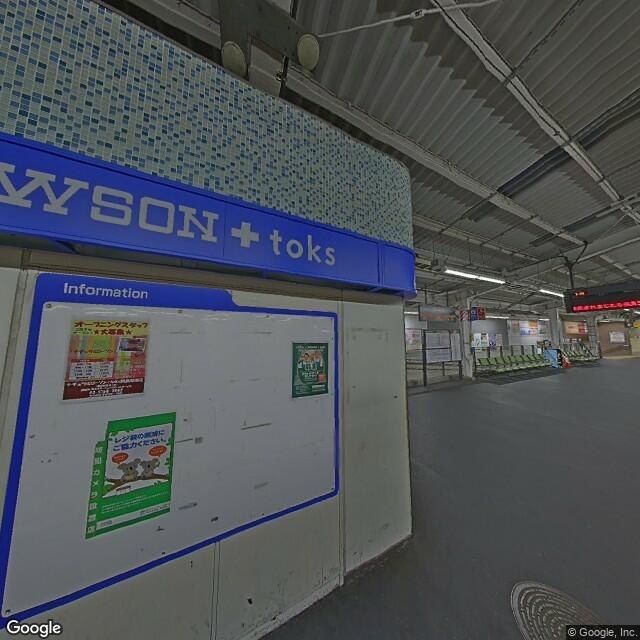lawson: (1, 133, 416, 293)
